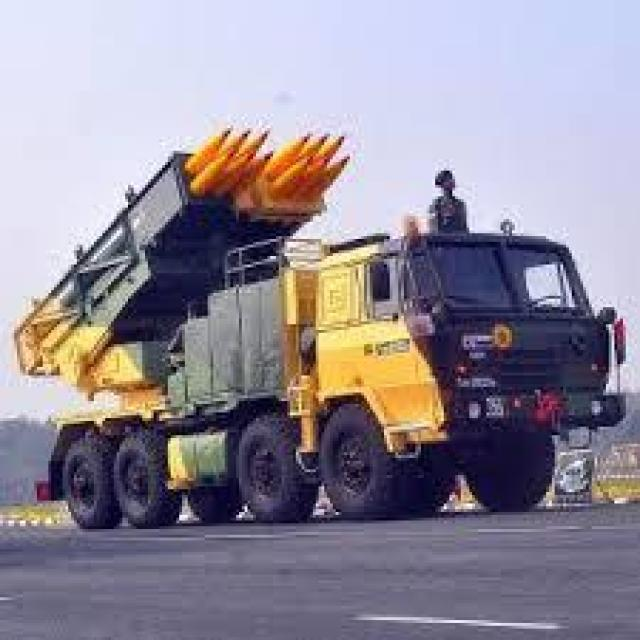Tanks: (3, 102, 566, 538)
